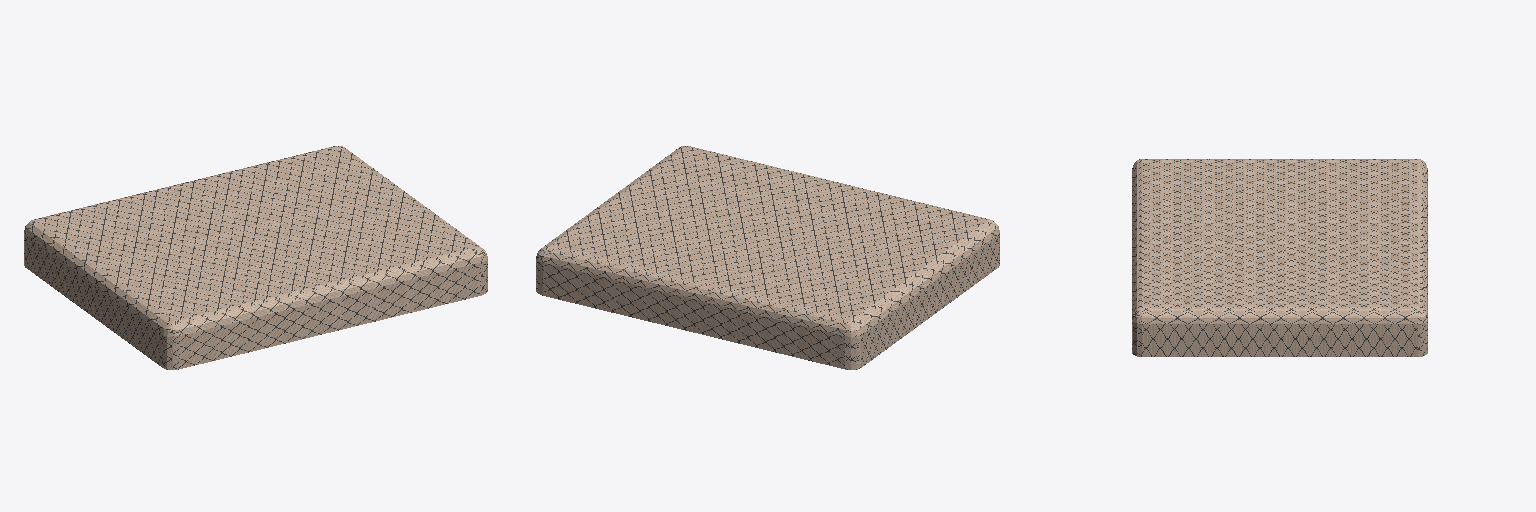
3 renders of one model, left to right at view 1: azimuth 30°, elevation 25°; view 2: azimuth 150°, elevation 25°; view 3: azimuth 270°, elevation 25°, orthographic.
Parts seen in each view (by area): view 1: Mesh1_Group2_Group1_Model.002; view 2: Mesh1_Group2_Group1_Model.002; view 3: Mesh1_Group2_Group1_Model.002.
Part boxes in pixels (bbox=[...]): Mesh1_Group2_Group1_Model.002: bbox=[24, 146, 487, 369]; Mesh1_Group2_Group1_Model.002: bbox=[536, 146, 999, 369]; Mesh1_Group2_Group1_Model.002: bbox=[1132, 159, 1427, 356].
Bounding box in the file's own units: 0.9986 × 0.1314 × 0.7927.
Materials: 1 (1 with a texture image).